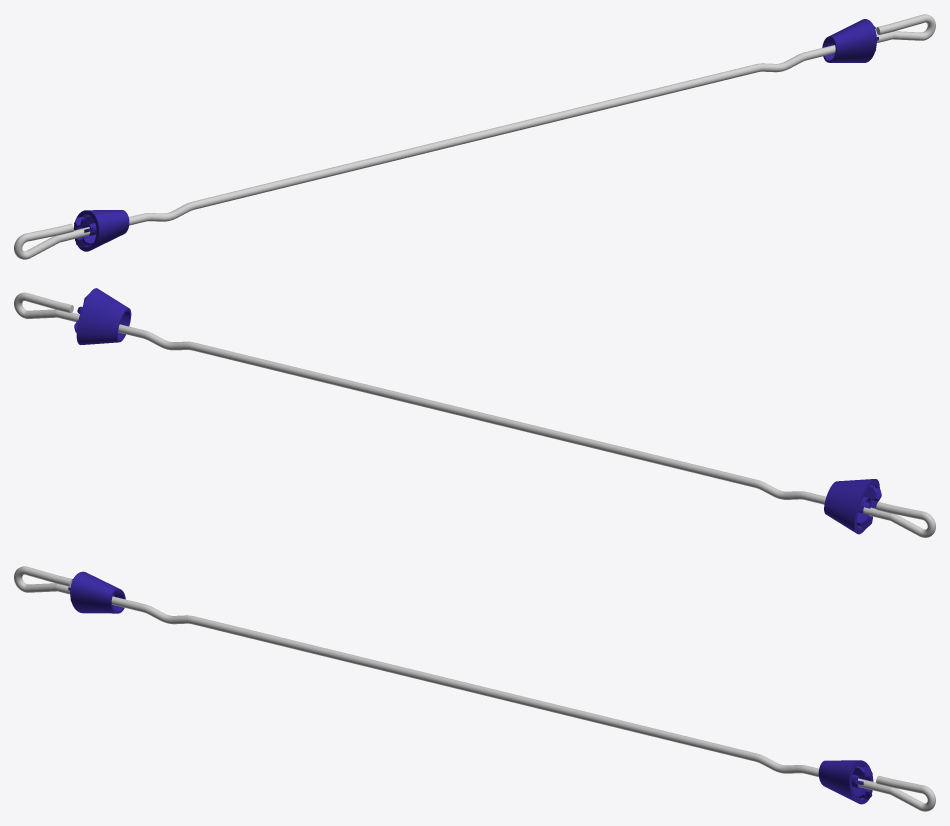
The model's file is dCone.glb.
The picture shows the model from 3 angles, top to bottom: view 1: azimuth 30°, elevation 25°; view 2: azimuth 150°, elevation 25°; view 3: azimuth 330°, elevation 25°; orthographic projection.
Visible parts, largest first — view 1: body, body 2, body 3 (×2); view 2: body 3 (×2), body, body 2; view 3: body 2, body, body 3 (×2).
Part boxes in pixels (box(x1,y1,x2,y2)): body: box(14, 132, 477, 259); body 2: box(472, 14, 935, 141); body 3 (×2): box(73, 19, 878, 251); body 3 (×2): box(74, 288, 881, 534); body: box(470, 411, 935, 537); body 2: box(14, 292, 478, 418); body 2: box(470, 684, 935, 811); body: box(14, 566, 478, 691); body 3 (×2): box(68, 571, 873, 804).
Bounding box in the file's own units: 1.69 × 0.0839 × 0.0808.
